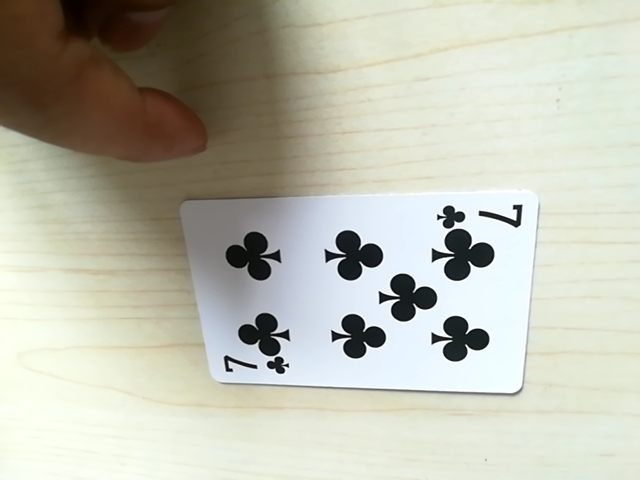mh 7: (443, 196, 524, 227), (215, 353, 288, 385)
